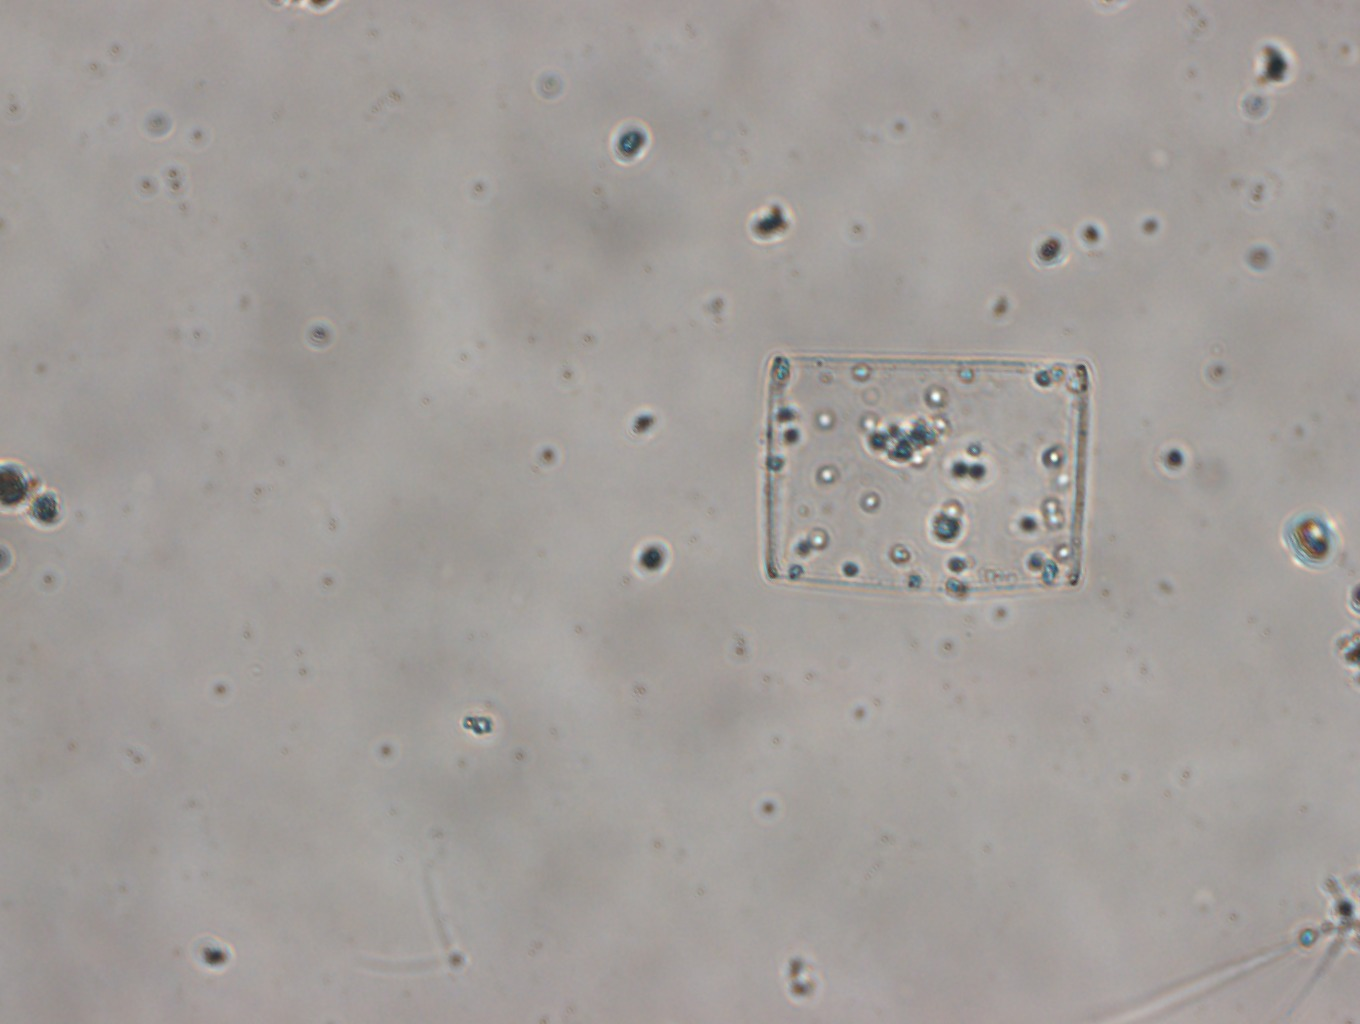guinardia flaccida: (763, 355, 1093, 587)
